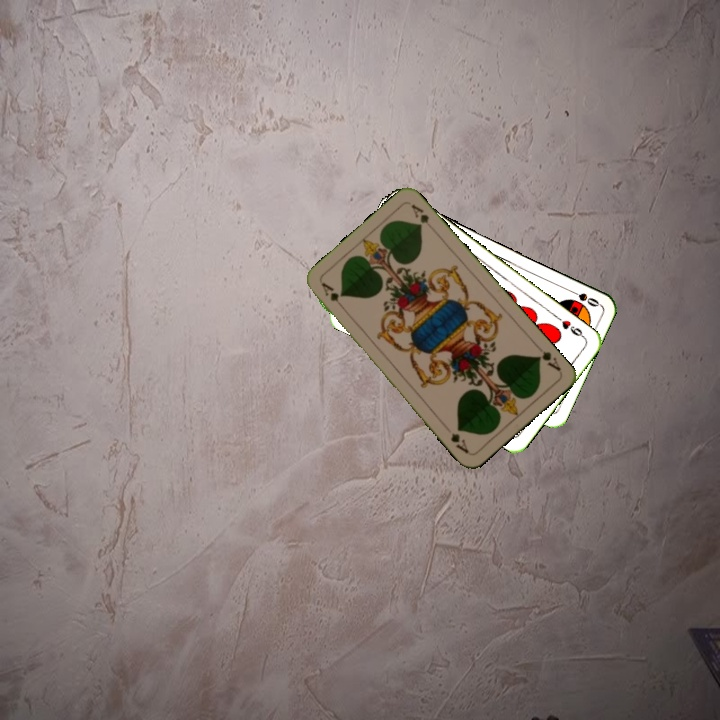GA: (317, 278, 348, 312), (532, 347, 563, 374)
H9: (553, 312, 588, 341)
SO: (564, 285, 602, 310)
